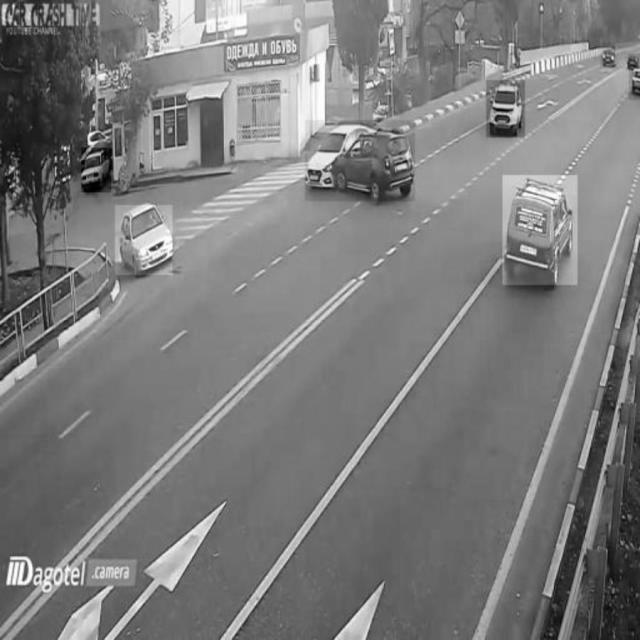accident: (305, 120, 415, 201)
vehicle: (502, 175, 576, 285), (116, 206, 173, 276), (486, 80, 524, 138), (82, 148, 112, 193), (629, 54, 639, 100), (600, 43, 616, 68)
